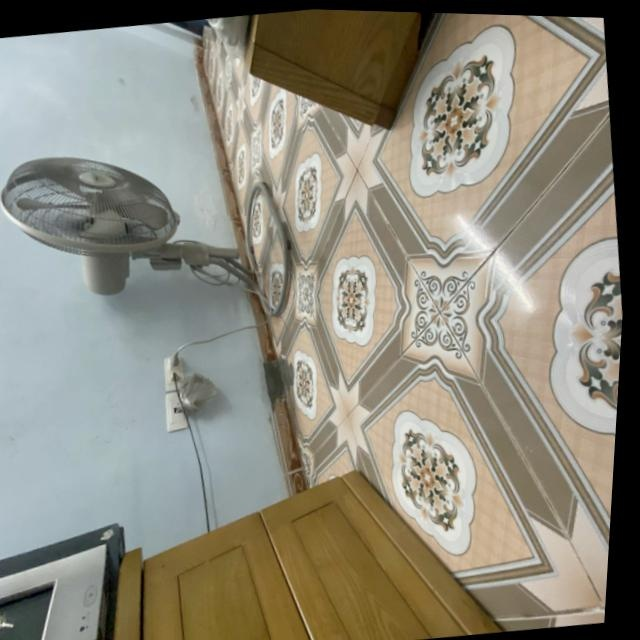outlet: (162, 389, 191, 432), (160, 353, 186, 391)
